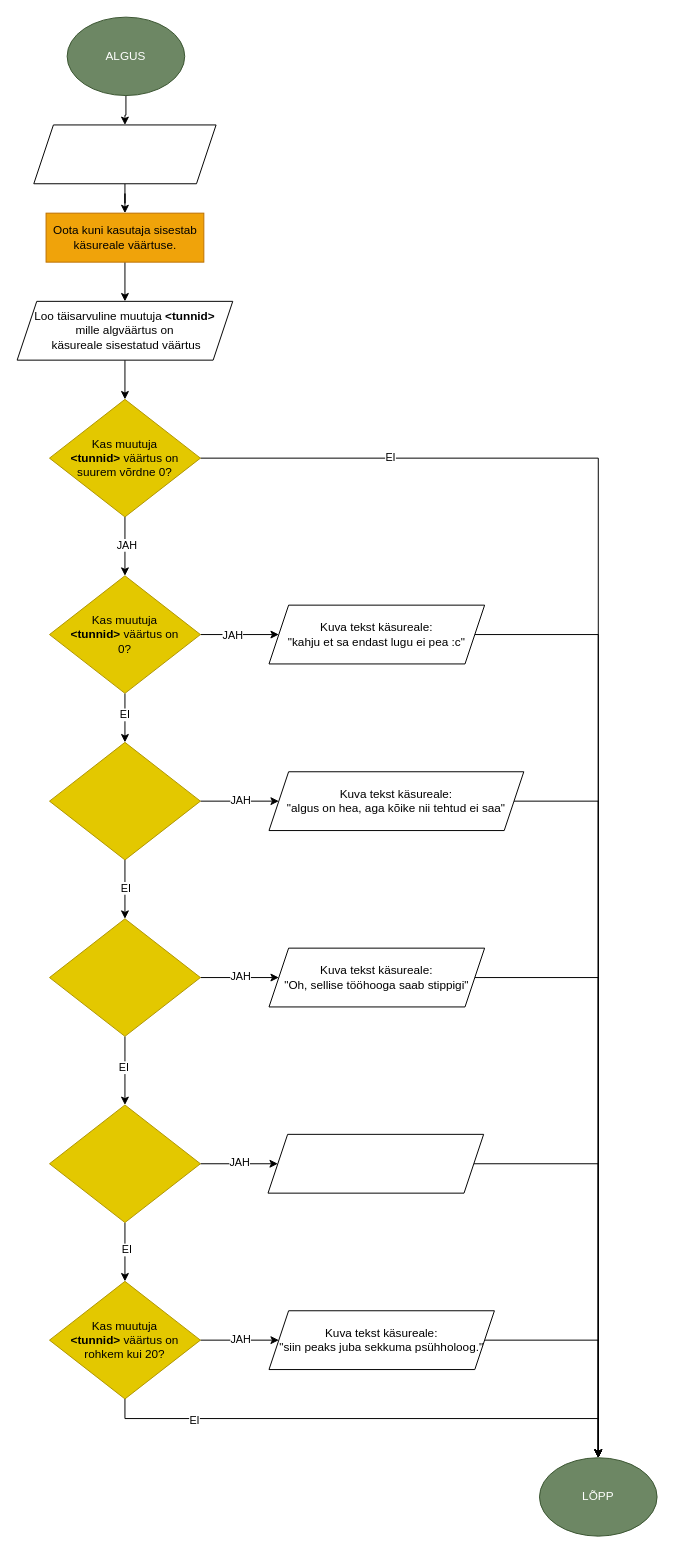
The diagram is 674 pixels wide and 1553 high, and some of its shapes have lost their labels. Here are the shapes that lost their labels. From the top down, the centre of each, then its label:
(x=124, y=154): Kuva tekst käsureale: "Sisesta mitu õppetundi oli sul eelmine nädal:
(x=124, y=800): Kas muutuja <tunnid> väärtus on vahemikus 0-5?
(x=124, y=977): Kas muutuja <tunnid> väärtus on vahemikus 5-10?
(x=124, y=1163): Kas muutuja <tunnid> väärtus on vahemikus 10-20?
(x=375, y=1163): Kuva tekst käsureale: "Kuldmedal aasta lõpus?"
